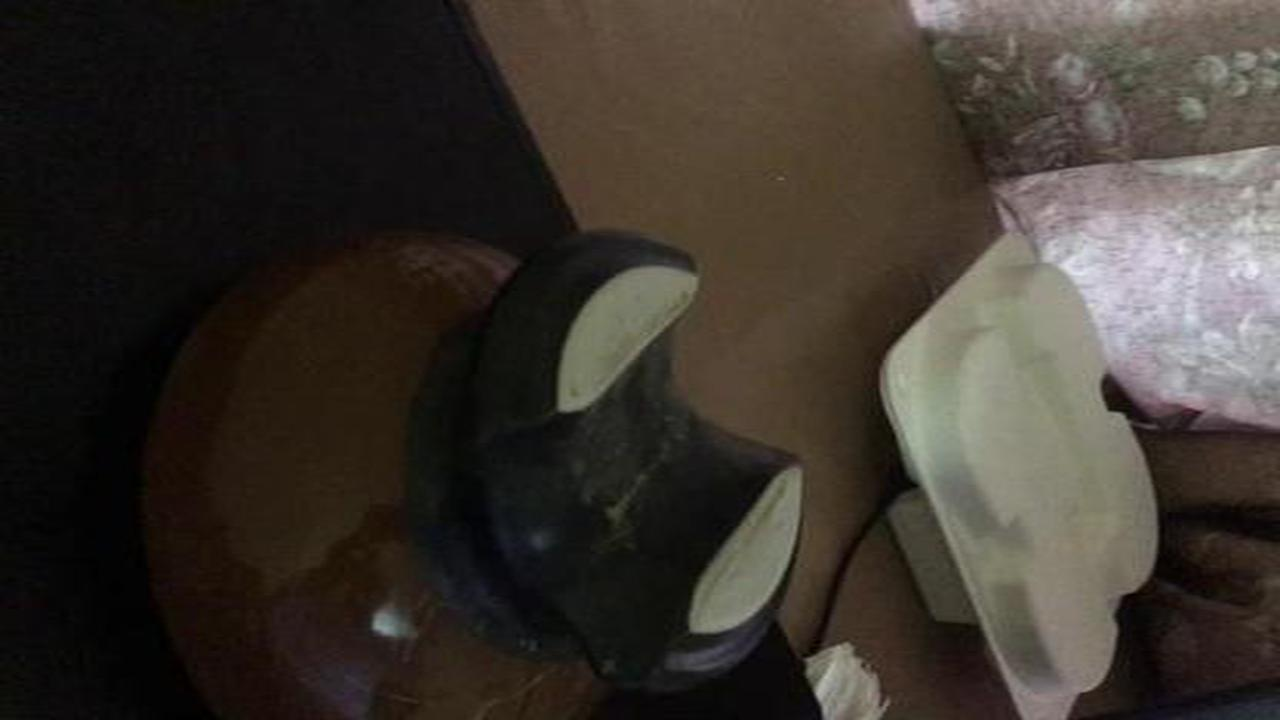insulator_pin: (127, 219, 828, 717)
